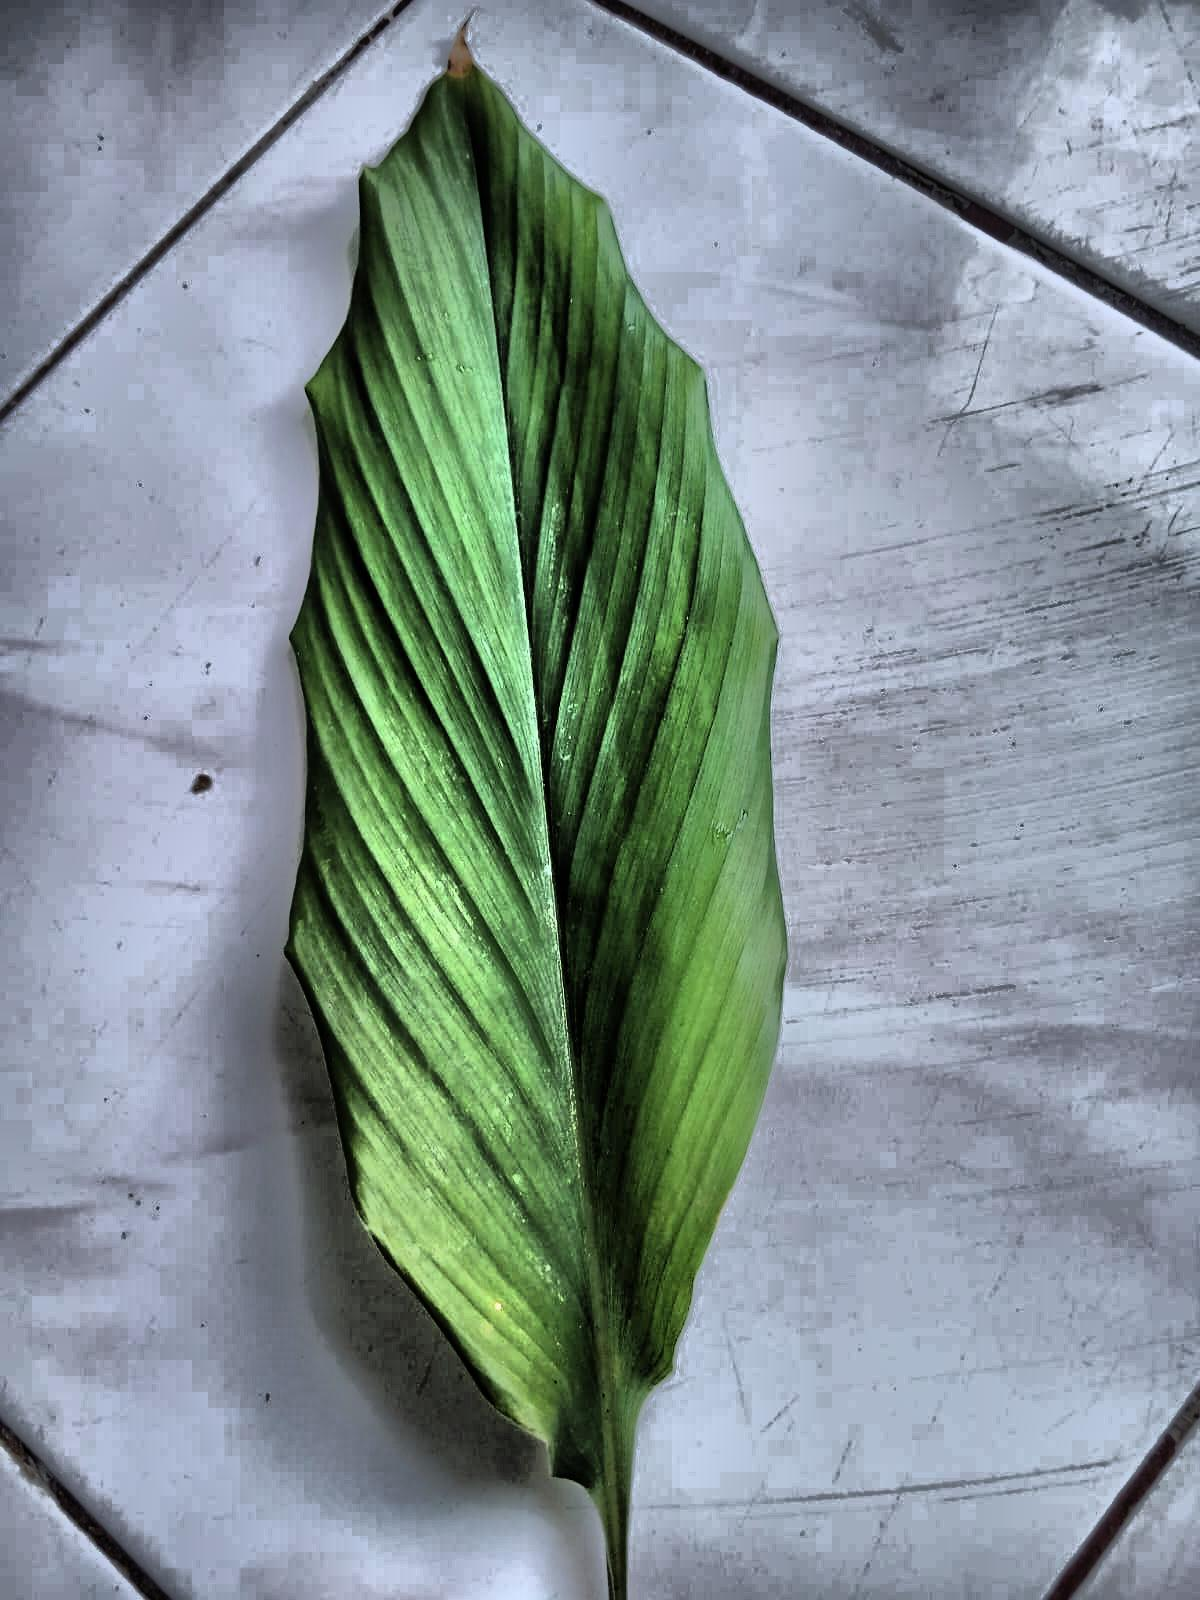daun kunyit: (287, 34, 787, 1599)
